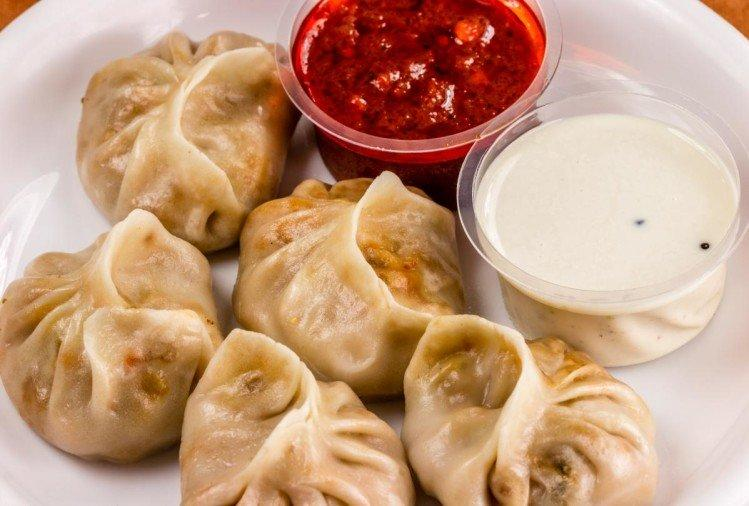momos: (0, 209, 222, 462), (233, 171, 464, 398), (78, 31, 298, 252), (402, 315, 657, 505), (180, 329, 414, 505)
